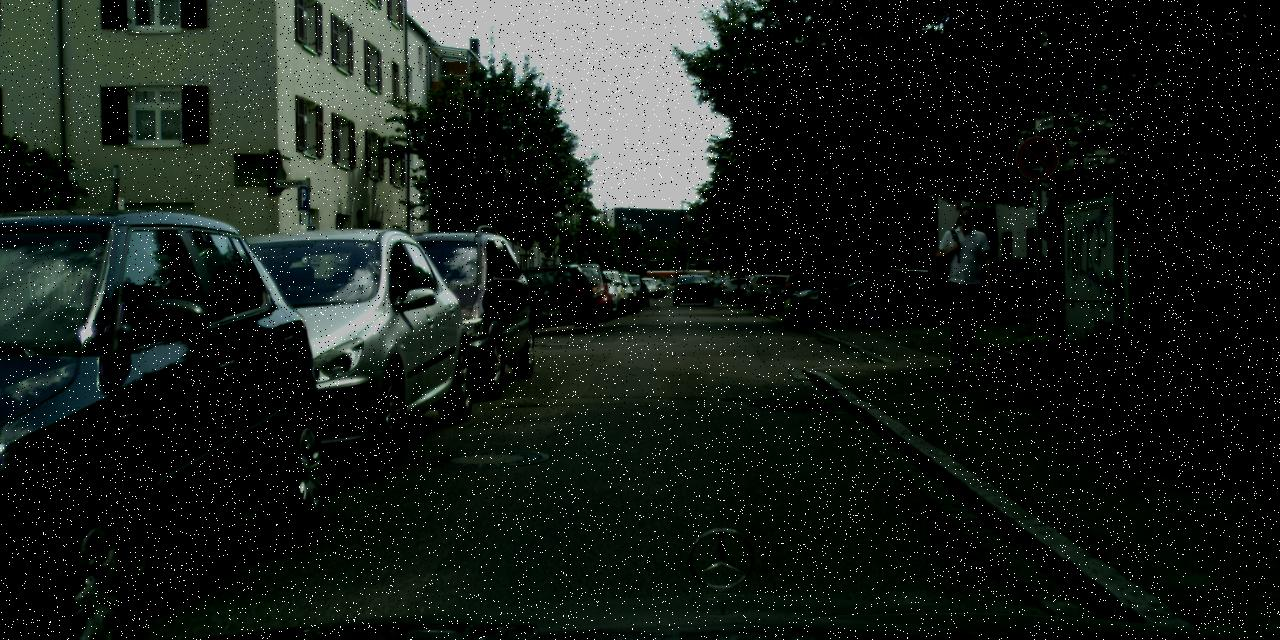ped: (932, 206, 996, 364)
